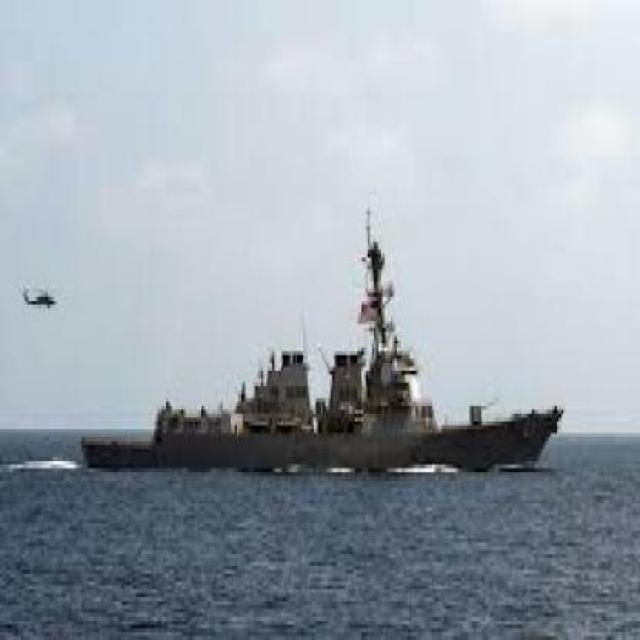warship2: (30, 196, 614, 493)
